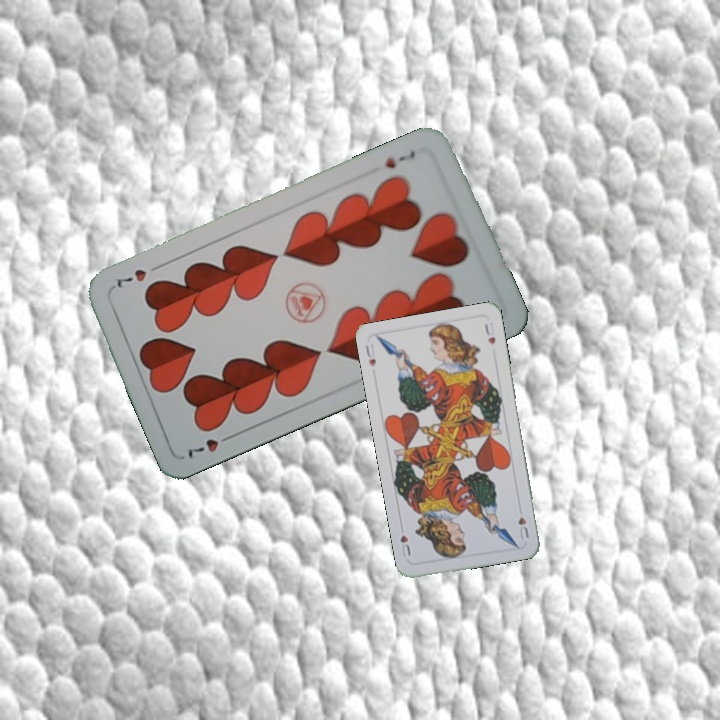H7: (184, 429, 238, 461), (381, 146, 418, 171)
HU: (361, 340, 379, 369), (514, 513, 531, 542)
